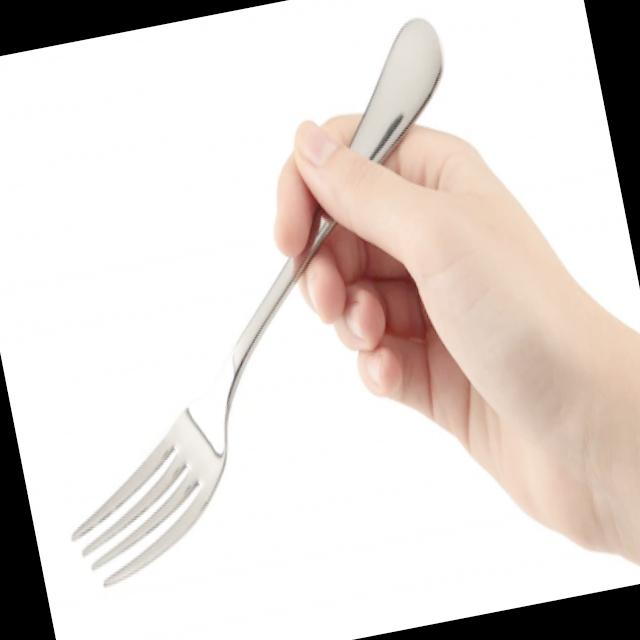fork: (0, 14, 533, 598)
